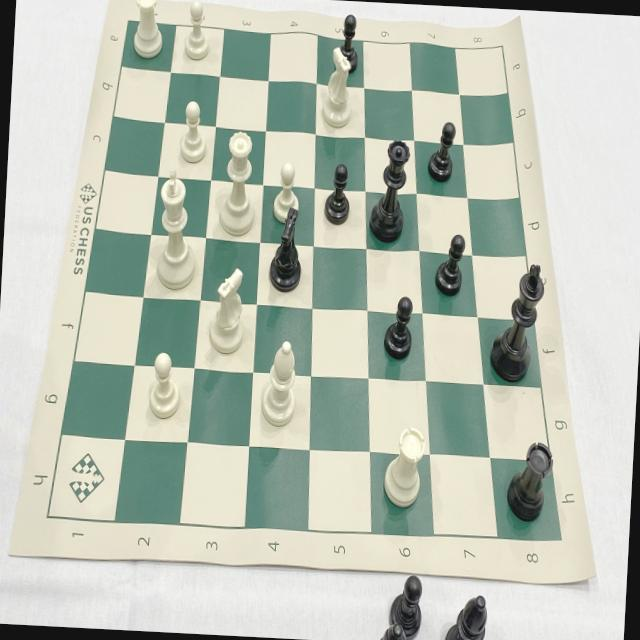black-king: (484, 256, 546, 387)
black-knight: (265, 207, 310, 296)
black-pawn: (380, 292, 417, 363), (432, 232, 468, 302), (320, 162, 354, 230), (331, 8, 364, 78), (426, 120, 458, 188)
black-queen: (367, 132, 414, 250)
black-rook: (501, 436, 559, 528)
white-bishop: (257, 336, 301, 430)
white-king: (151, 168, 204, 295)
white-knight: (206, 266, 252, 359), (318, 44, 356, 131)
white-pawn: (144, 346, 185, 422), (268, 156, 303, 224), (177, 96, 210, 168), (179, 0, 214, 64)
white-queen: (217, 127, 261, 241)
white-rook: (376, 418, 428, 510), (128, 0, 170, 66)
